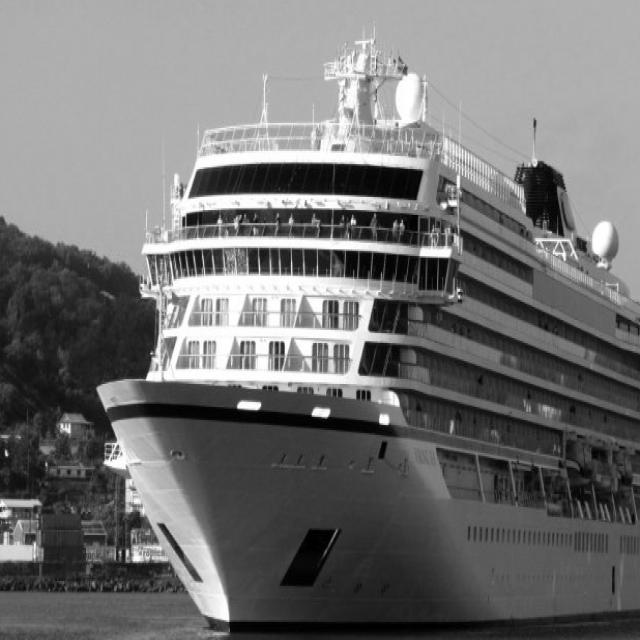cruises: (95, 34, 640, 640)
